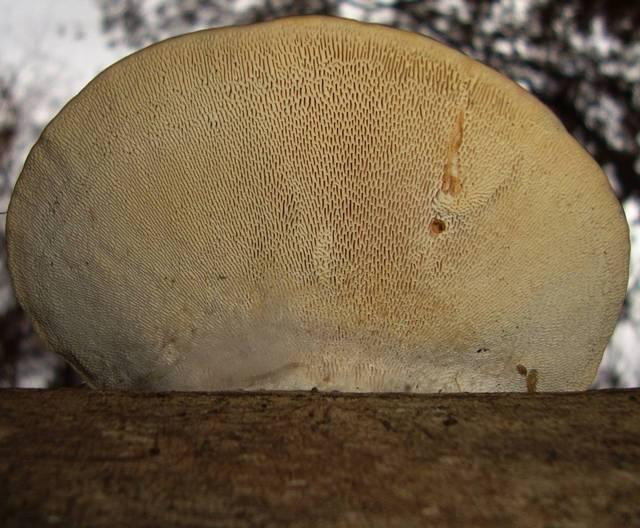poisonous_mushroom: (1, 13, 632, 395)
